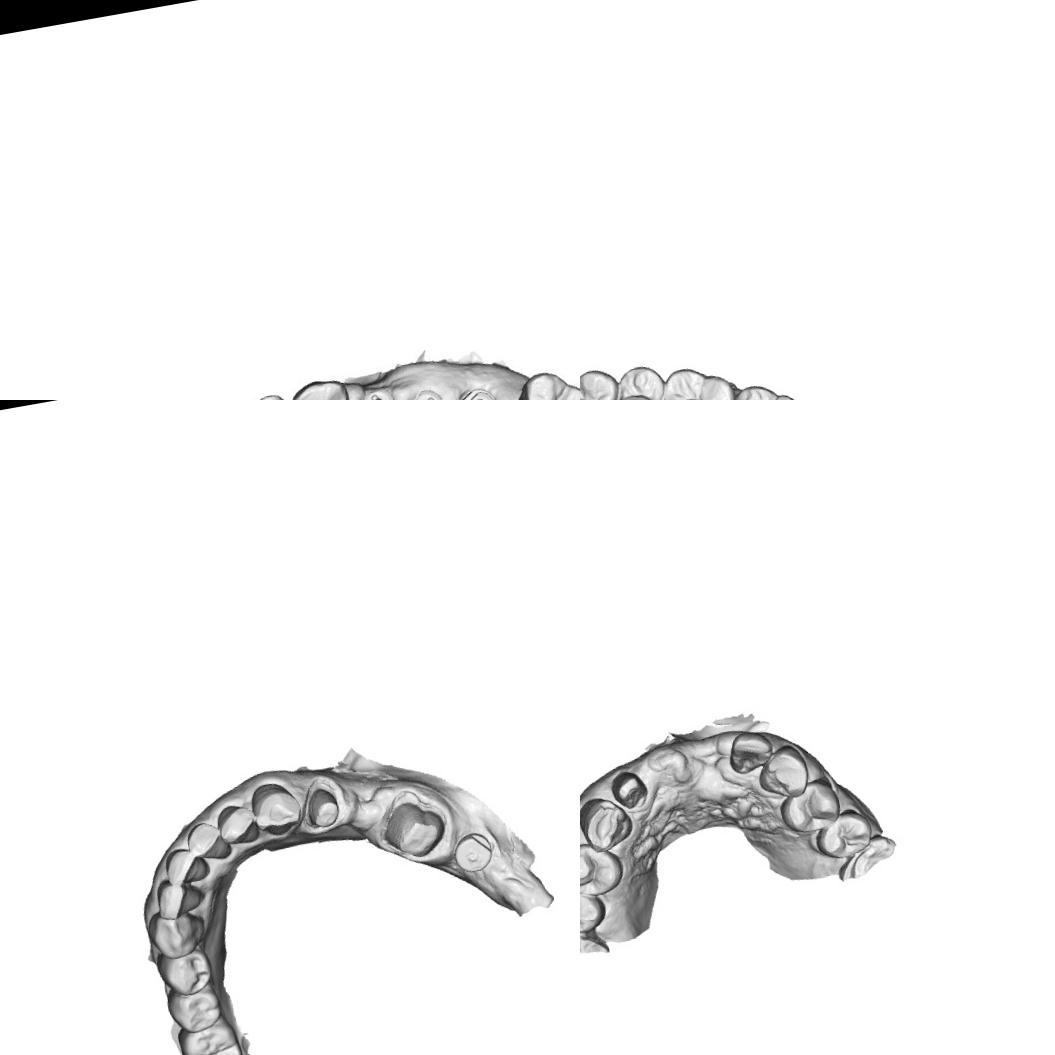canine: (142, 904, 213, 963), (246, 776, 305, 840), (580, 791, 636, 854), (753, 742, 811, 802), (290, 375, 358, 400)
crown: (376, 792, 451, 864), (300, 782, 344, 832)
implant: (447, 826, 500, 877)
implant_minus: (450, 383, 502, 400), (358, 381, 401, 400), (404, 385, 449, 400)
incisor: (149, 872, 208, 924), (181, 812, 233, 866), (157, 842, 212, 891), (213, 798, 262, 849), (724, 728, 775, 776), (608, 768, 650, 812)
molar: (654, 358, 745, 400), (503, 359, 580, 400), (176, 1018, 246, 1055), (724, 374, 814, 400)
premolar: (775, 775, 843, 836), (811, 804, 875, 862), (162, 981, 226, 1038), (154, 946, 218, 1001), (580, 836, 626, 900), (607, 358, 674, 400), (580, 363, 629, 400), (580, 883, 609, 939)
